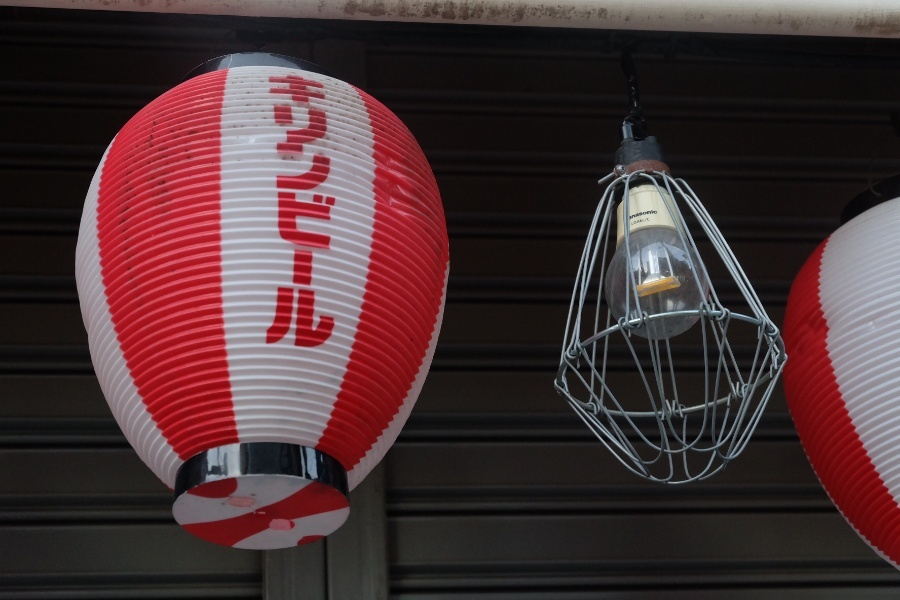text: (321, 74, 337, 354), (273, 74, 288, 354), (289, 74, 304, 354), (305, 74, 320, 354), (268, 74, 272, 354), (641, 207, 656, 220), (630, 207, 640, 220), (641, 217, 651, 226), (631, 217, 640, 226), (657, 207, 658, 220)
